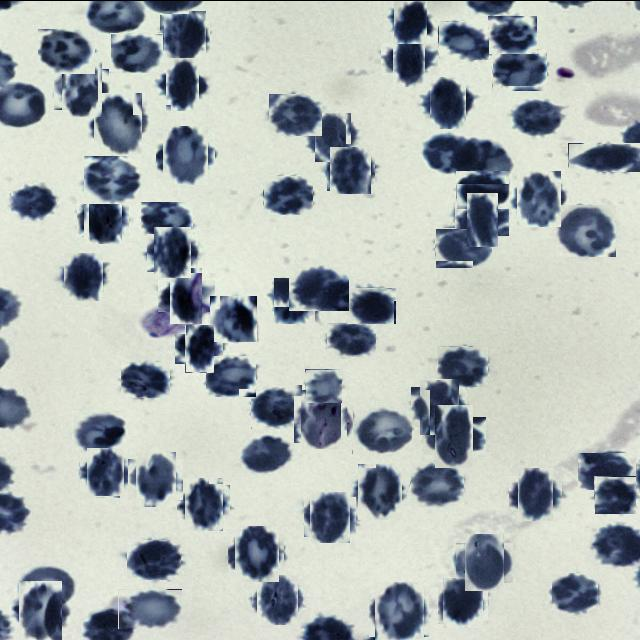red blood cell: (555, 203, 616, 256), (90, 96, 146, 152), (372, 584, 426, 638), (352, 405, 412, 453), (289, 263, 349, 310), (297, 392, 350, 445), (160, 128, 212, 182), (84, 155, 141, 203), (14, 584, 66, 636), (17, 564, 76, 609), (456, 137, 513, 183), (38, 28, 95, 73), (118, 588, 182, 628), (428, 410, 479, 460), (355, 466, 405, 516), (514, 173, 564, 223), (232, 528, 282, 578), (410, 460, 464, 506), (492, 47, 547, 90), (268, 92, 322, 135), (422, 132, 477, 174), (415, 382, 463, 430), (58, 64, 106, 112), (132, 454, 180, 502), (435, 227, 492, 267), (461, 538, 508, 586), (251, 384, 302, 428), (72, 410, 126, 451), (162, 12, 208, 59), (127, 539, 181, 579), (578, 452, 636, 489), (205, 354, 256, 396), (141, 201, 193, 242), (110, 32, 163, 72), (307, 493, 353, 539), (440, 580, 486, 626), (80, 194, 126, 240), (254, 576, 300, 622), (210, 296, 256, 342), (180, 481, 227, 526), (437, 345, 488, 386), (568, 142, 640, 171), (513, 471, 558, 516), (552, 572, 598, 616), (456, 170, 509, 208), (263, 174, 313, 214), (438, 20, 489, 59), (61, 254, 106, 298), (426, 80, 471, 124), (150, 230, 195, 274), (242, 434, 292, 473), (83, 450, 127, 494), (329, 148, 373, 192), (164, 273, 208, 317), (388, 36, 432, 80), (272, 278, 316, 322), (514, 98, 563, 136), (488, 15, 537, 53), (346, 286, 396, 323), (312, 114, 354, 158), (11, 181, 57, 221), (162, 62, 204, 105), (461, 198, 504, 240), (121, 361, 170, 397), (327, 322, 376, 356), (391, 0, 431, 40), (594, 475, 636, 513), (180, 329, 219, 368), (305, 368, 342, 402)
